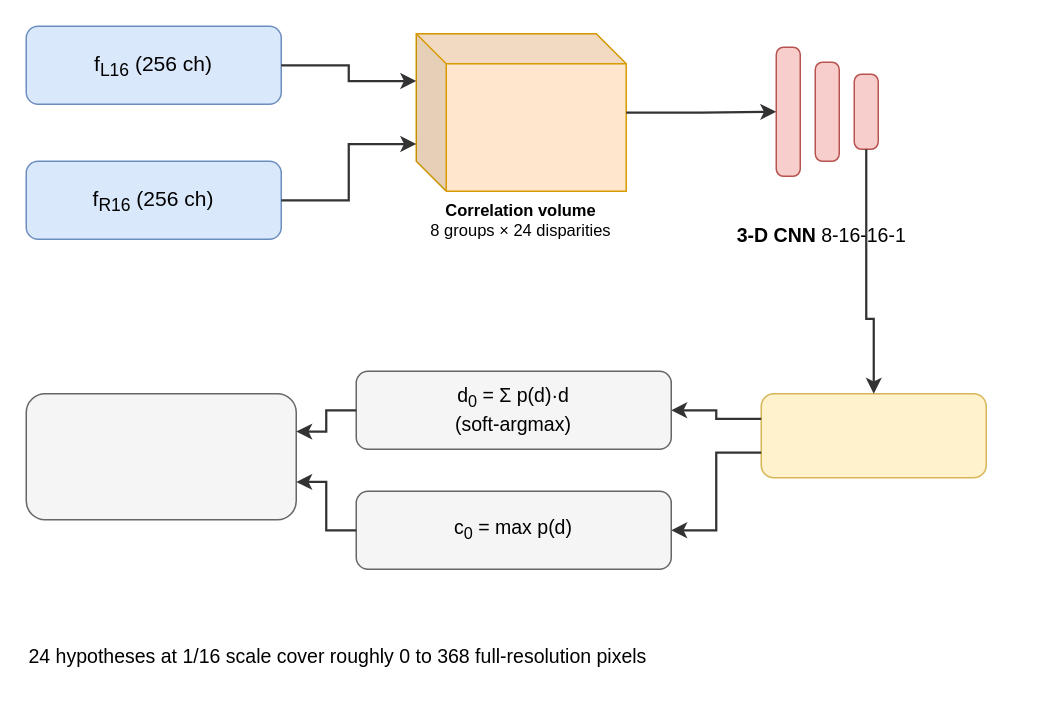
This 1043x705 diagram has some shape labels left out. The box of each missing label's shape, as (x1, y1, x2, y2) in pixels:
softmax p(d): (760, 392, 986, 478)
Tile state T = (d 0 , 0, 0, ctx16, c 0 ): (25, 392, 296, 520)
